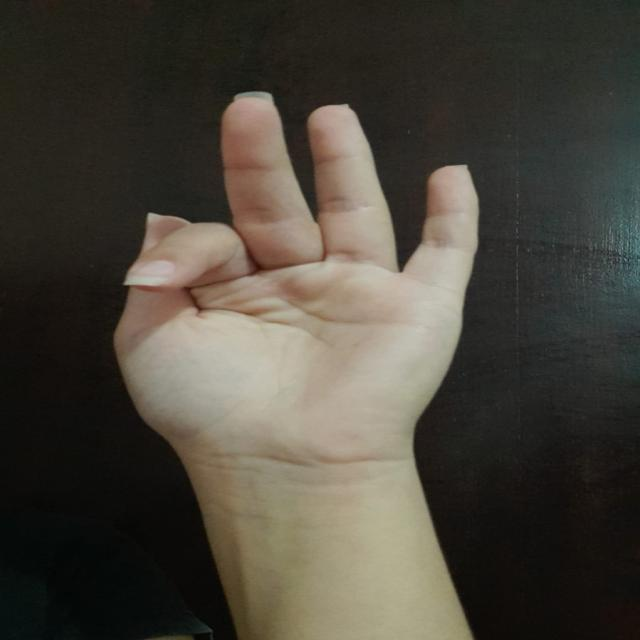F: (100, 80, 494, 450)
